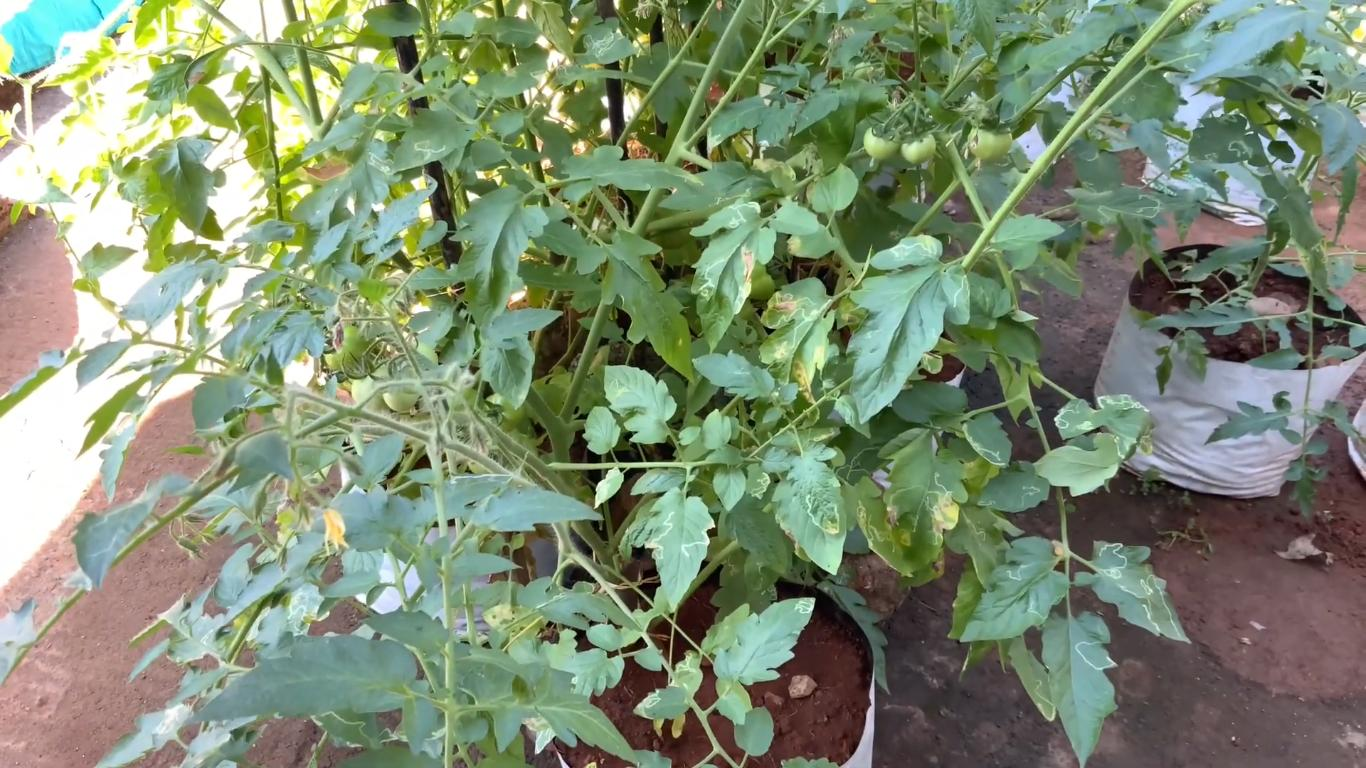Leaf_Miner: (846, 233, 970, 425), (879, 426, 969, 578), (689, 201, 777, 354), (1042, 610, 1119, 768), (959, 536, 1070, 642), (757, 278, 835, 428), (1090, 539, 1192, 645), (713, 597, 815, 685), (646, 486, 715, 613), (1262, 172, 1329, 300), (1034, 394, 1155, 458), (844, 476, 915, 578), (518, 575, 639, 632), (390, 106, 477, 175), (604, 365, 677, 446), (1065, 181, 1193, 226), (343, 137, 402, 234), (656, 161, 770, 210), (786, 442, 842, 535), (411, 471, 515, 520), (712, 551, 778, 623), (253, 583, 325, 643), (1008, 636, 1057, 722), (690, 353, 774, 401), (976, 459, 1050, 512), (308, 707, 397, 750), (1187, 115, 1260, 165), (962, 411, 1013, 468), (578, 28, 640, 65), (633, 685, 690, 720), (835, 444, 882, 481), (153, 704, 190, 750), (674, 650, 704, 698), (745, 462, 770, 499)
